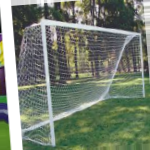goals: (16, 16, 147, 146)
